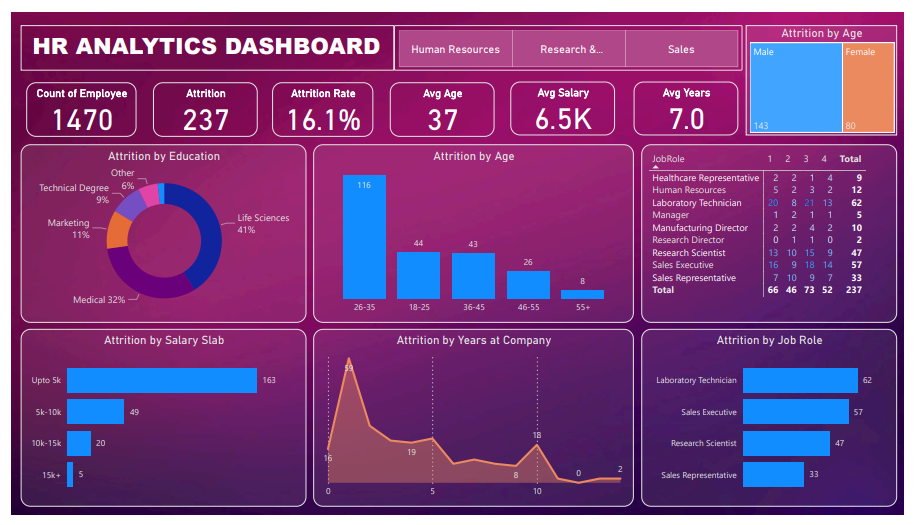

This screenshot's page, from the dashboard's own definition file:
{"tool":"powerbi","page":{"name":"Page 1","canvas":[1280,720],"ordinal":0},"visuals":[{"type":"card","title":"Count of Employee","fields":{"Values":["Count(HR_Analytics.EmpID)"]},"box":[21.2,100,157.5,77.5],"z":0},{"type":"card","title":"Attrition","fields":{"Values":["Sum(HR_Analytics.AttritionCount)"]},"box":[202.5,100,150,77.5],"z":1000},{"type":"card","title":"Attrition Rate","fields":{"Values":["HR_Analytics.AttritionRate"]},"box":[373.8,100,145,77.5],"z":2000},{"type":"card","title":"Avg Years","fields":{"Values":["Avg(HR_Analytics.YearsAtCompany)"]},"box":[892.5,98.8,150,77.5],"z":3000},{"type":"card","title":"Avg Salary","fields":{"Values":["Avg(HR_Analytics.MonthlyIncome)"]},"box":[716.2,98.8,150,77.5],"z":4000},{"type":"card","title":"Avg Age","fields":{"Values":["Avg(HR_Analytics.Age)"]},"box":[542.5,100,150,77.5],"z":5000},{"type":"donutChart","title":"Attrition by Education ","fields":{"Category":["HR_Analytics.EducationField"],"Y":["CountNonNull(HR_Analytics.Attrition)"]},"box":[12.5,188.8,410,256.2],"z":6000},{"type":"columnChart","title":"Attrition by Age","fields":{"Category":["HR_Analytics.AgeGroup"],"Y":["Sum(HR_Analytics.AttritionCount)"]},"box":[432.5,188.8,460,256.2],"z":7000},{"type":"pivotTable","fields":{"Rows":["HR_Analytics.JobRole"],"Columns":["HR_Analytics.JobSatisfaction"],"Values":["Sum(HR_Analytics.AttritionCount)"]},"box":[903.8,188.8,367.5,256.2],"z":8000},{"type":"barChart","title":"Attrition by Salary Slab","fields":{"Category":["HR_Analytics.SalarySlab"],"Y":["Sum(HR_Analytics.AttritionCount)"]},"box":[12.5,453.8,410,255],"z":9000},{"type":"barChart","title":"Attrition by Job Role","fields":{"Y":["Sum(HR_Analytics.AttritionCount)"],"Category":["HR_Analytics.JobRole"]},"box":[903.8,453.8,367.5,255],"z":10000},{"type":"areaChart","title":"Attrition by Years at Company","fields":{"Category":["HR_Analytics.YearsAtCompany"],"Y":["Sum(HR_Analytics.AttritionCount)"]},"box":[432.5,453.8,460,255],"z":11000},{"type":"treemap","title":"Attrition by Age","fields":{"Group":["HR_Analytics.Gender"],"Values":["Sum(HR_Analytics.AttritionCount)"]},"box":[1053.8,17.5,217.5,158.8],"z":12000},{"type":"advancedSlicerVisual","fields":{"Values":["HR_Analytics.Department"]},"box":[548.8,17.5,500,65],"z":13000},{"type":"textbox","box":[12.5,17.5,536.2,65],"z":14000}]}

Visuals, with their boxes in screenshot pixels (x1, y1, x2, y2), scaled from the page's 1280x720 canvas onto the 915x525 screenshot:
"Count of Employee" card: (x1=15, y1=73, x2=128, y2=129)
"Attrition" card: (x1=145, y1=73, x2=252, y2=129)
"Attrition Rate" card: (x1=267, y1=73, x2=371, y2=129)
"Avg Years" card: (x1=638, y1=72, x2=745, y2=129)
"Avg Salary" card: (x1=512, y1=72, x2=619, y2=129)
"Avg Age" card: (x1=388, y1=73, x2=495, y2=129)
"Attrition by Education " donutChart: (x1=9, y1=138, x2=302, y2=324)
"Attrition by Age" columnChart: (x1=309, y1=138, x2=638, y2=324)
pivotTable - HR_Analytics.JobRole x HR_Analytics.JobSatisfaction: (x1=646, y1=138, x2=909, y2=324)
"Attrition by Salary Slab" barChart: (x1=9, y1=331, x2=302, y2=517)
"Attrition by Job Role" barChart: (x1=646, y1=331, x2=909, y2=517)
"Attrition by Years at Company" areaChart: (x1=309, y1=331, x2=638, y2=517)
"Attrition by Age" treemap: (x1=753, y1=13, x2=909, y2=129)
advancedSlicerVisual - HR_Analytics.Department: (x1=392, y1=13, x2=750, y2=60)
textbox: (x1=9, y1=13, x2=392, y2=60)
